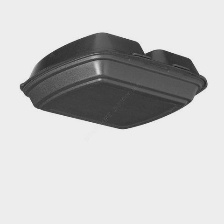foam_box: (15, 29, 212, 136)
